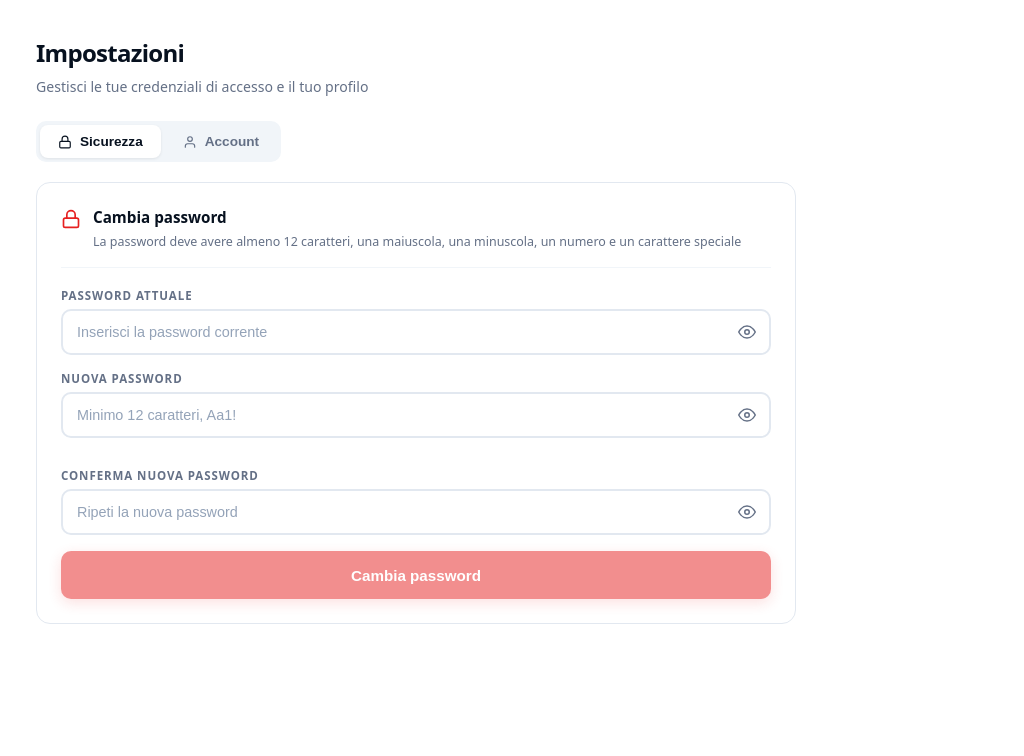
SettingsPage › switches to account tab
Click the tab "Account": (221, 142) top-left (165, 125), bottom-right (277, 158)
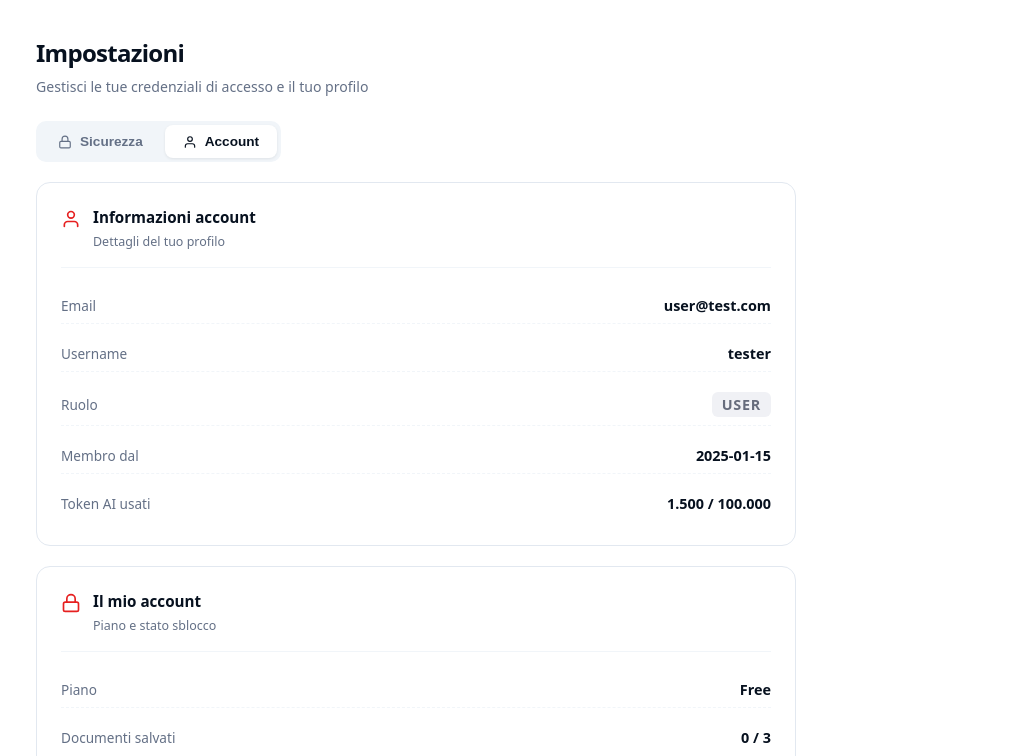
Result: the text "Email" is shown at top-left (61, 296), bottom-right (96, 315)
Result: the text "Username" is shown at top-left (61, 344), bottom-right (127, 363)
